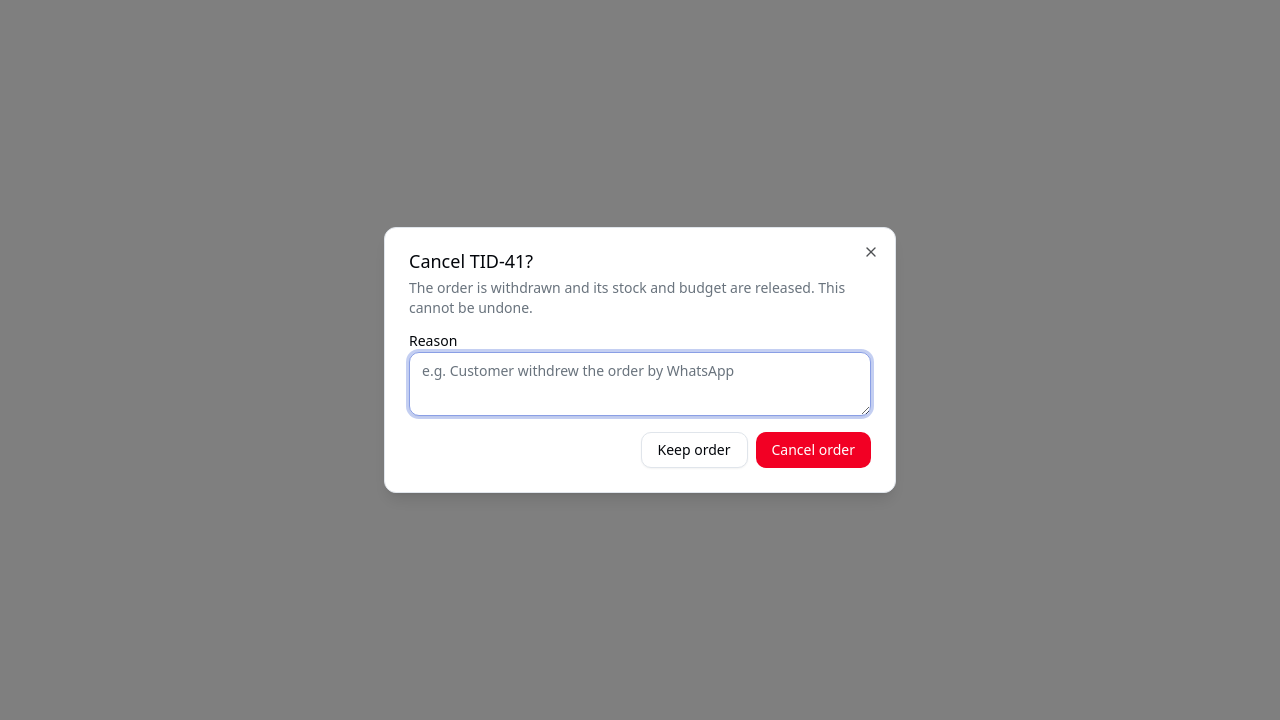
Test: cancelling a desk order › keeps the dialog open with the server's reason when it is refused
In the text box labelled "Reason": x=640, y=384 [409,352,871,416], type "Too late"
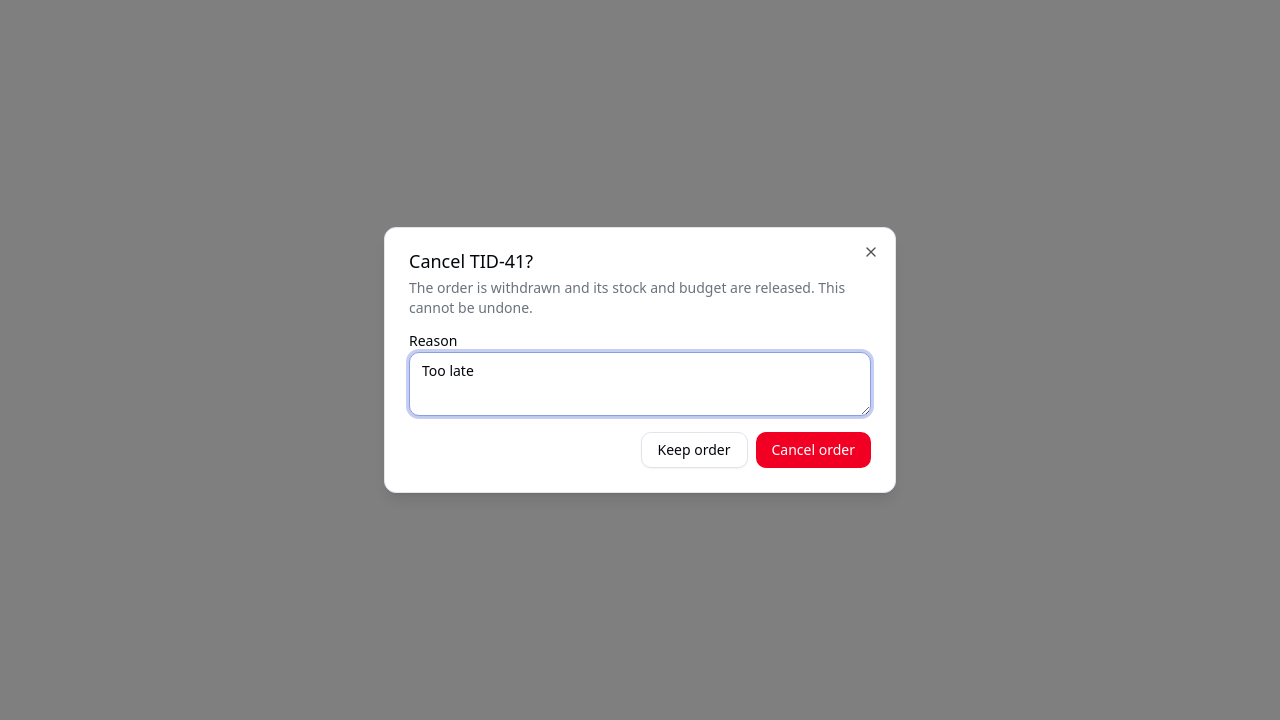
Click the button "Cancel order": x=813, y=450 [756,432,871,468]
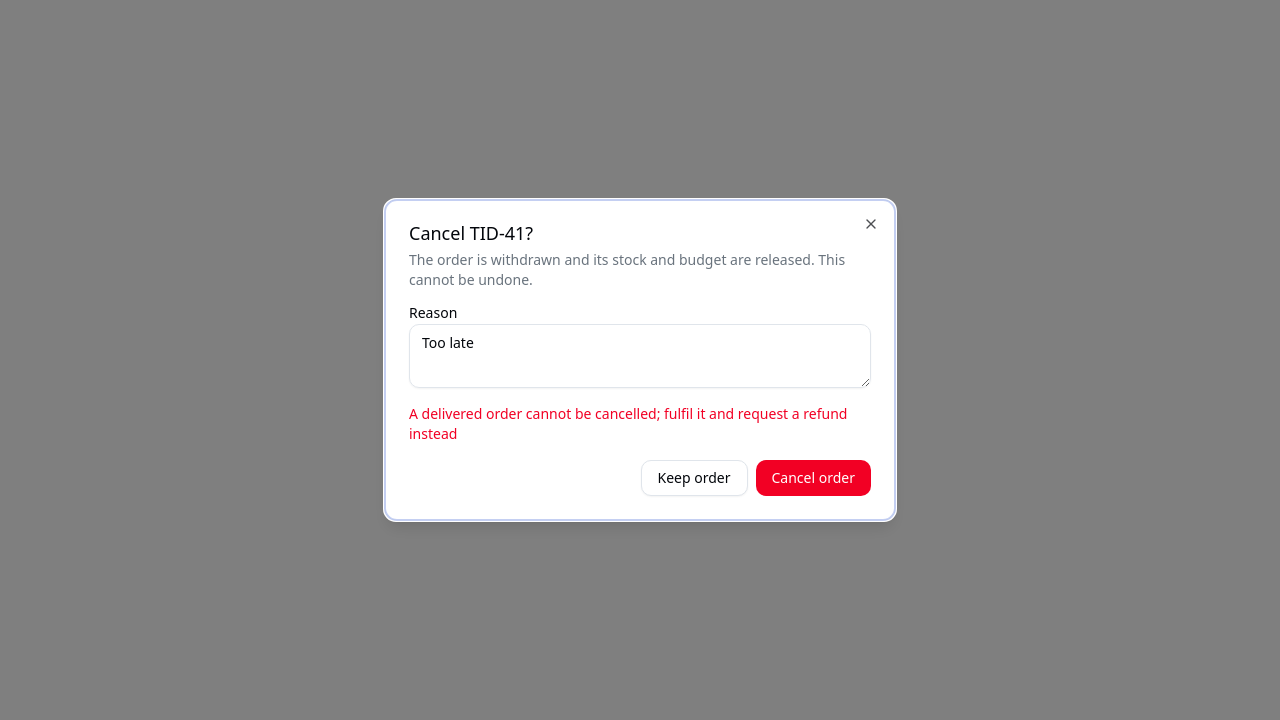
Check: the text "A delivered order cannot be cancelled; fulfil it and request a refund instead" is shown, box [409,404,871,444]
